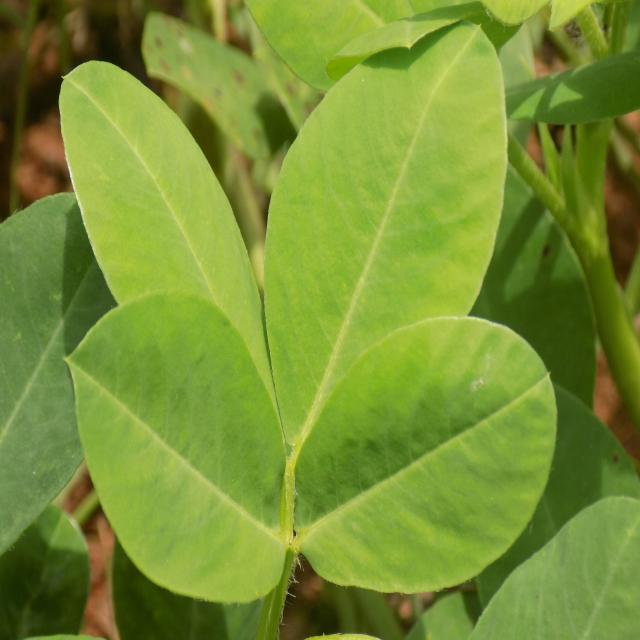Ground nut_healthy: (261, 15, 509, 448), (56, 55, 286, 451), (291, 307, 558, 597), (63, 283, 283, 603)
